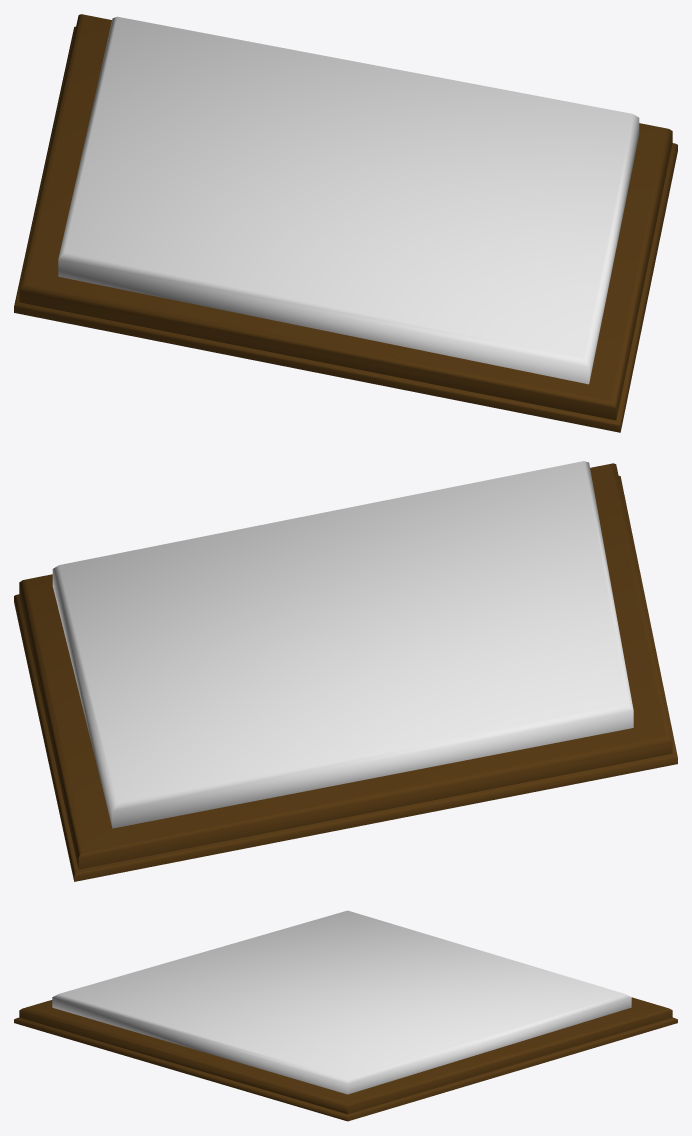
Rendered from PawnLosange.fbx.
3 renders of one model, top to bottom at view 1: azimuth 30°, elevation 25°; view 2: azimuth 150°, elevation 25°; view 3: azimuth 270°, elevation 25°, orthographic. The views are drawn at different scales.
Parts seen in each view (by area): view 1: Cube.001, Cube; view 2: Cube.001, Cube; view 3: Cube.001, Cube.
Part boxes in pixels (x1=…): Cube.001: x1=58, y1=16, x2=639, y2=384; Cube: x1=14, y1=14, x2=677, y2=432; Cube.001: x1=52, y1=461, x2=633, y2=828; Cube: x1=14, y1=463, x2=677, y2=881; Cube.001: x1=52, y1=910, x2=631, y2=1094; Cube: x1=14, y1=997, x2=677, y2=1121.
Bounding box in the file's own units: 283 × 19.48 × 403.
